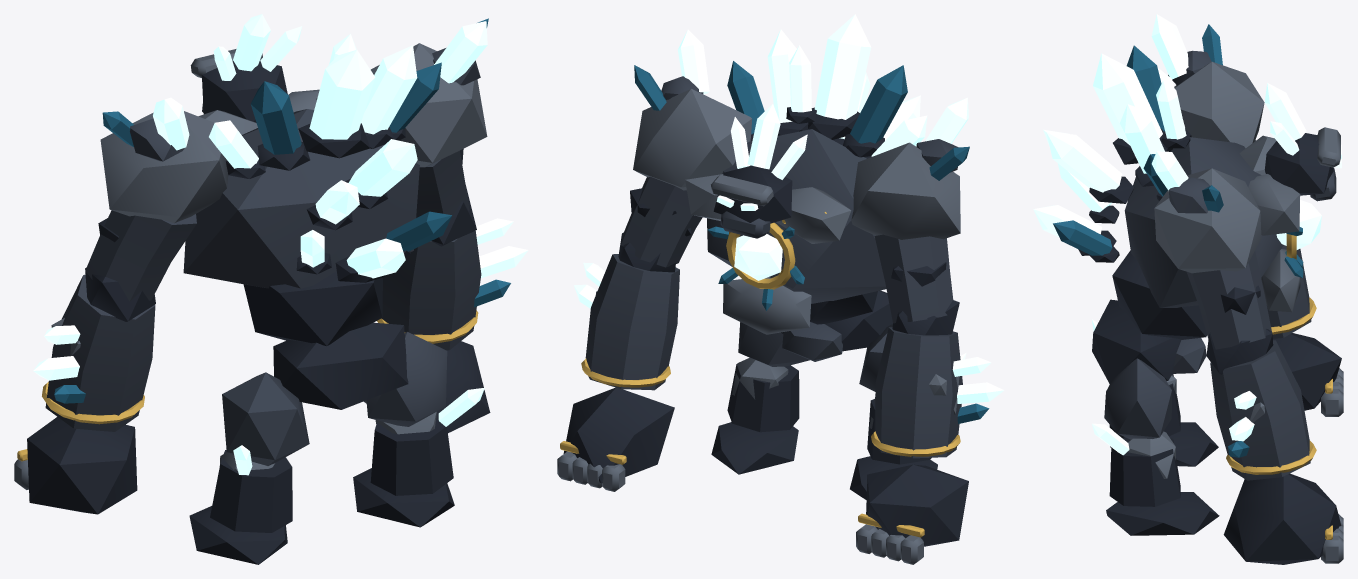
Rendered from Shardbound.fbx.
3 views of the same model, side by side, from view 1: azimuth 30°, elevation 25°; view 2: azimuth 150°, elevation 25°; view 3: azimuth 270°, elevation 25° (orthographic). The views are drawn at different scales.
Visible parts, largest first — view 1: Shardbound_Torso, Shardbound_UpperArmL, Shardbound_Torso_Glow_Cyan, Shardbound_LowerArmL, Shardbound_LowerArmR, Shardbound_FistL, Shardbound_Pelvis, Shardbound_LowerLegR, Shardbound_UpperArmR, Shardbound_LowerLegL, Shardbound_UpperLegL, Shardbound_UpperLegR (+8 smaller); view 2: Shardbound_Torso, Shardbound_UpperArmL, Shardbound_UpperArmR, Shardbound_LowerArmL, Shardbound_LowerArmR, Shardbound_Torso_Glow_Cyan, Shardbound_FistR, Shardbound_FistL, Shardbound_LowerLegR, Shardbound_Head, Shardbound_Pelvis, Shardbound_Head_Glow_Cyan (+7 smaller); view 3: Shardbound_Torso, Shardbound_UpperArmR, Shardbound_LowerArmR, Shardbound_Torso_Glow_Cyan, Shardbound_FistR, Shardbound_LowerLegR, Shardbound_UpperArmL, Shardbound_Pelvis, Shardbound_UpperLegR, Shardbound_Head, Shardbound_FistL, Shardbound_LowerLegL (+6 smaller).
Boxes of the visible parts, left/top/right/bottom form: Shardbound_Torso: left=183, top=62, right=452, bottom=346; Shardbound_UpperArmL: left=85, top=111, right=228, bottom=301; Shardbound_Torso_Glow_Cyan: left=209, top=33, right=417, bottom=278; Shardbound_LowerArmL: left=42, top=267, right=155, bottom=431; Shardbound_LowerArmR: left=377, top=185, right=510, bottom=350; Shardbound_FistL: left=14, top=417, right=137, bottom=514; Shardbound_Pelvis: left=273, top=322, right=408, bottom=409; Shardbound_LowerLegR: left=353, top=411, right=454, bottom=527; Shardbound_UpperArmR: left=371, top=18, right=488, bottom=217; Shardbound_LowerLegL: left=189, top=450, right=292, bottom=564; Shardbound_UpperLegL: left=222, top=372, right=309, bottom=465; Shardbound_UpperLegR: left=366, top=332, right=447, bottom=426; Shardbound_Torso: left=685, top=61, right=907, bottom=334; Shardbound_UpperArmL: left=851, top=139, right=969, bottom=323; Shardbound_UpperArmR: left=621, top=65, right=752, bottom=267; Shardbound_LowerArmL: left=871, top=300, right=989, bottom=458; Shardbound_LowerArmR: left=581, top=232, right=679, bottom=390; Shardbound_Torso_Glow_Cyan: left=734, top=14, right=927, bottom=280; Shardbound_FistR: left=557, top=387, right=674, bottom=491; Shardbound_FistL: left=856, top=464, right=968, bottom=564; Shardbound_LowerLegR: left=711, top=357, right=799, bottom=474; Shardbound_Head: left=711, top=165, right=792, bottom=238; Shardbound_Pelvis: left=781, top=290, right=892, bottom=361; Shardbound_Head_Glow_Cyan: left=716, top=104, right=807, bottom=210; Shardbound_Torso: left=1053, top=45, right=1303, bottom=339; Shardbound_UpperArmR: left=1154, top=168, right=1271, bottom=349; Shardbound_LowerArmR: left=1206, top=329, right=1316, bottom=480; Shardbound_Torso_Glow_Cyan: left=1033, top=53, right=1321, bottom=249; Shardbound_FistR: left=1223, top=473, right=1343, bottom=564; Shardbound_LowerLegR: left=1106, top=431, right=1219, bottom=535; Shardbound_UpperArmL: left=1168, top=24, right=1264, bottom=148; Shardbound_Pelvis: left=1092, top=299, right=1206, bottom=383; Shardbound_UpperLegR: left=1104, top=358, right=1171, bottom=439; Shardbound_Head: left=1264, top=127, right=1340, bottom=201; Shardbound_FistL: left=1273, top=333, right=1343, bottom=416; Shardbound_LowerLegL: left=1109, top=374, right=1218, bottom=466.
Bounding box in the file's own units: 3080 × 3016 × 1911.
Materials: 2 (1 with a texture image).
